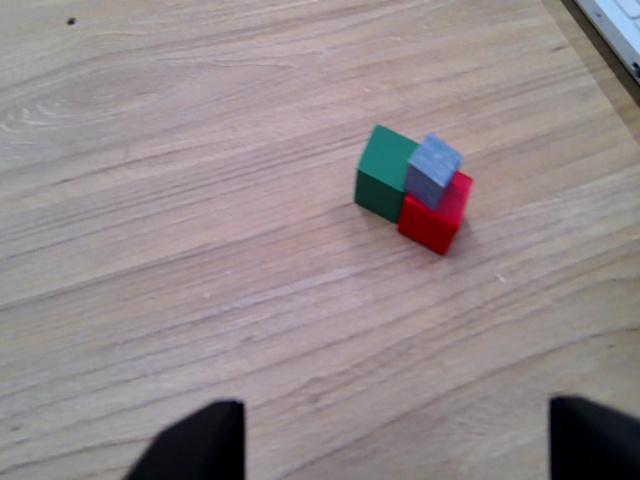stone: (402, 131, 466, 215)
